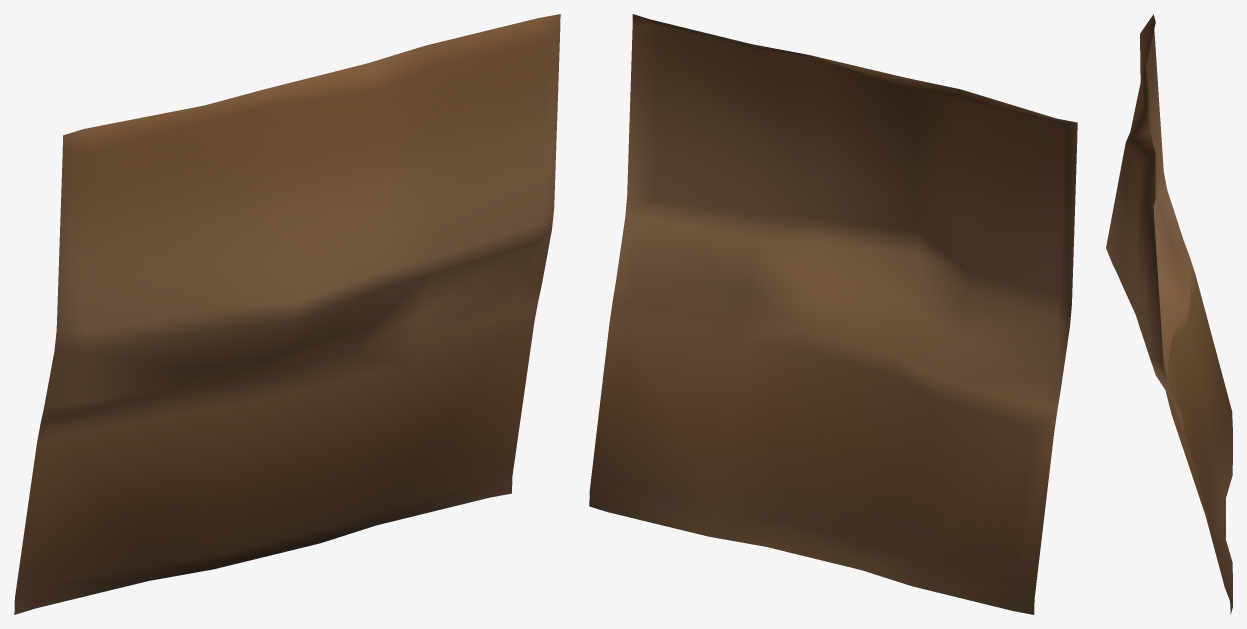
File: Environment_Canyon_V2.fbx
3 renders of one model, left to right at view 1: azimuth 30°, elevation 25°; view 2: azimuth 150°, elevation 25°; view 3: azimuth 270°, elevation 25°, orthographic. The views are drawn at different scales.
Visible parts, largest first — view 1: Canyon_v2; view 2: Canyon_v2; view 3: Canyon_v2.
Part boxes in pixels (x1=…): Canyon_v2: x1=14, y1=14, x2=560, y2=614; Canyon_v2: x1=589, y1=14, x2=1077, y2=614; Canyon_v2: x1=1106, y1=14, x2=1232, y2=614.
Size of the model in its own units: 10.01 by 9.91 by 2.79.
